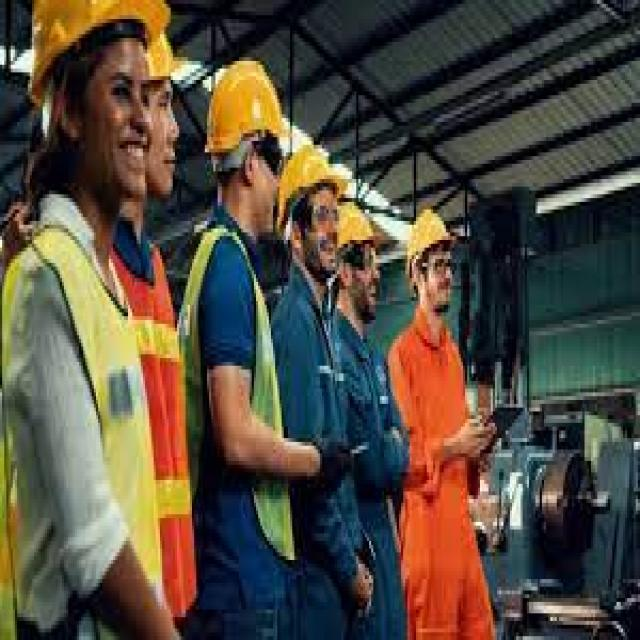Reflective-Jacket: (0, 213, 196, 628), (177, 214, 299, 572), (379, 316, 488, 625)
Safety-Helmet: (19, 0, 192, 107), (201, 54, 290, 172), (271, 129, 354, 244), (322, 190, 393, 294), (399, 194, 459, 282)
